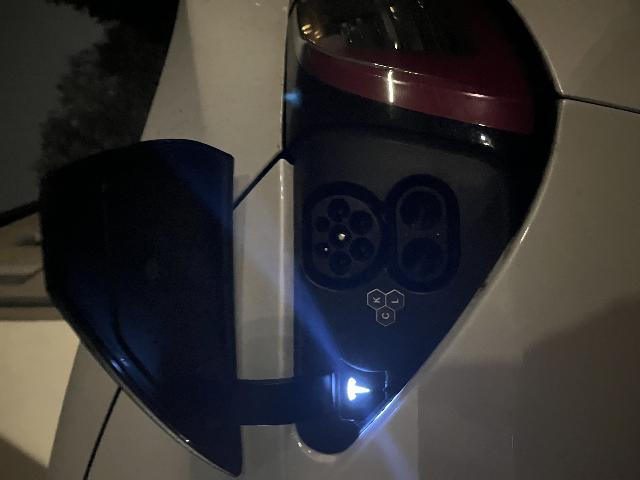inlet: (202, 312, 285, 380)
inlet-above-left: (222, 314, 239, 330)
inlet-above-right: (247, 313, 264, 329)
inlet-below-left: (217, 349, 242, 374)
inlet-below-right: (244, 349, 270, 372)
inlet-circle: (231, 328, 255, 351)
inlet-circle-left: (205, 328, 229, 352)
inlet-circle-right: (258, 327, 282, 350)
inlet-minus: (249, 400, 289, 441)
inlet-plus: (202, 401, 242, 442)
